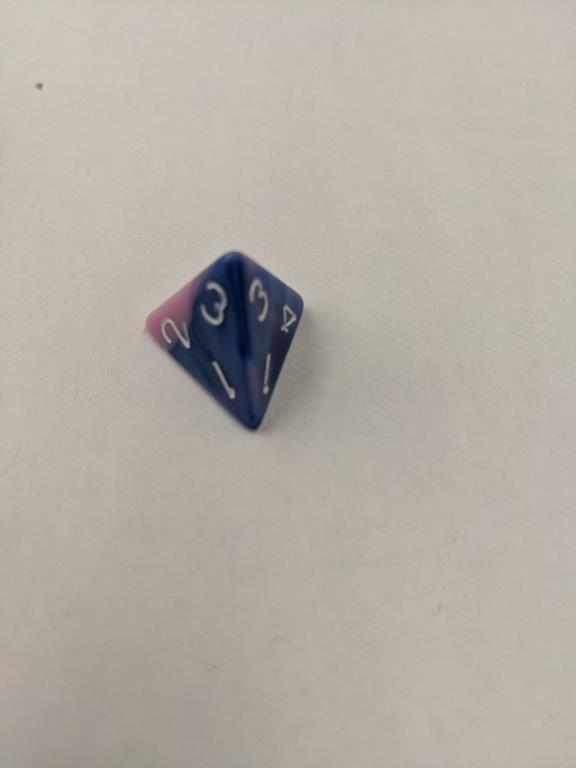d4-3: (137, 247, 306, 433)
